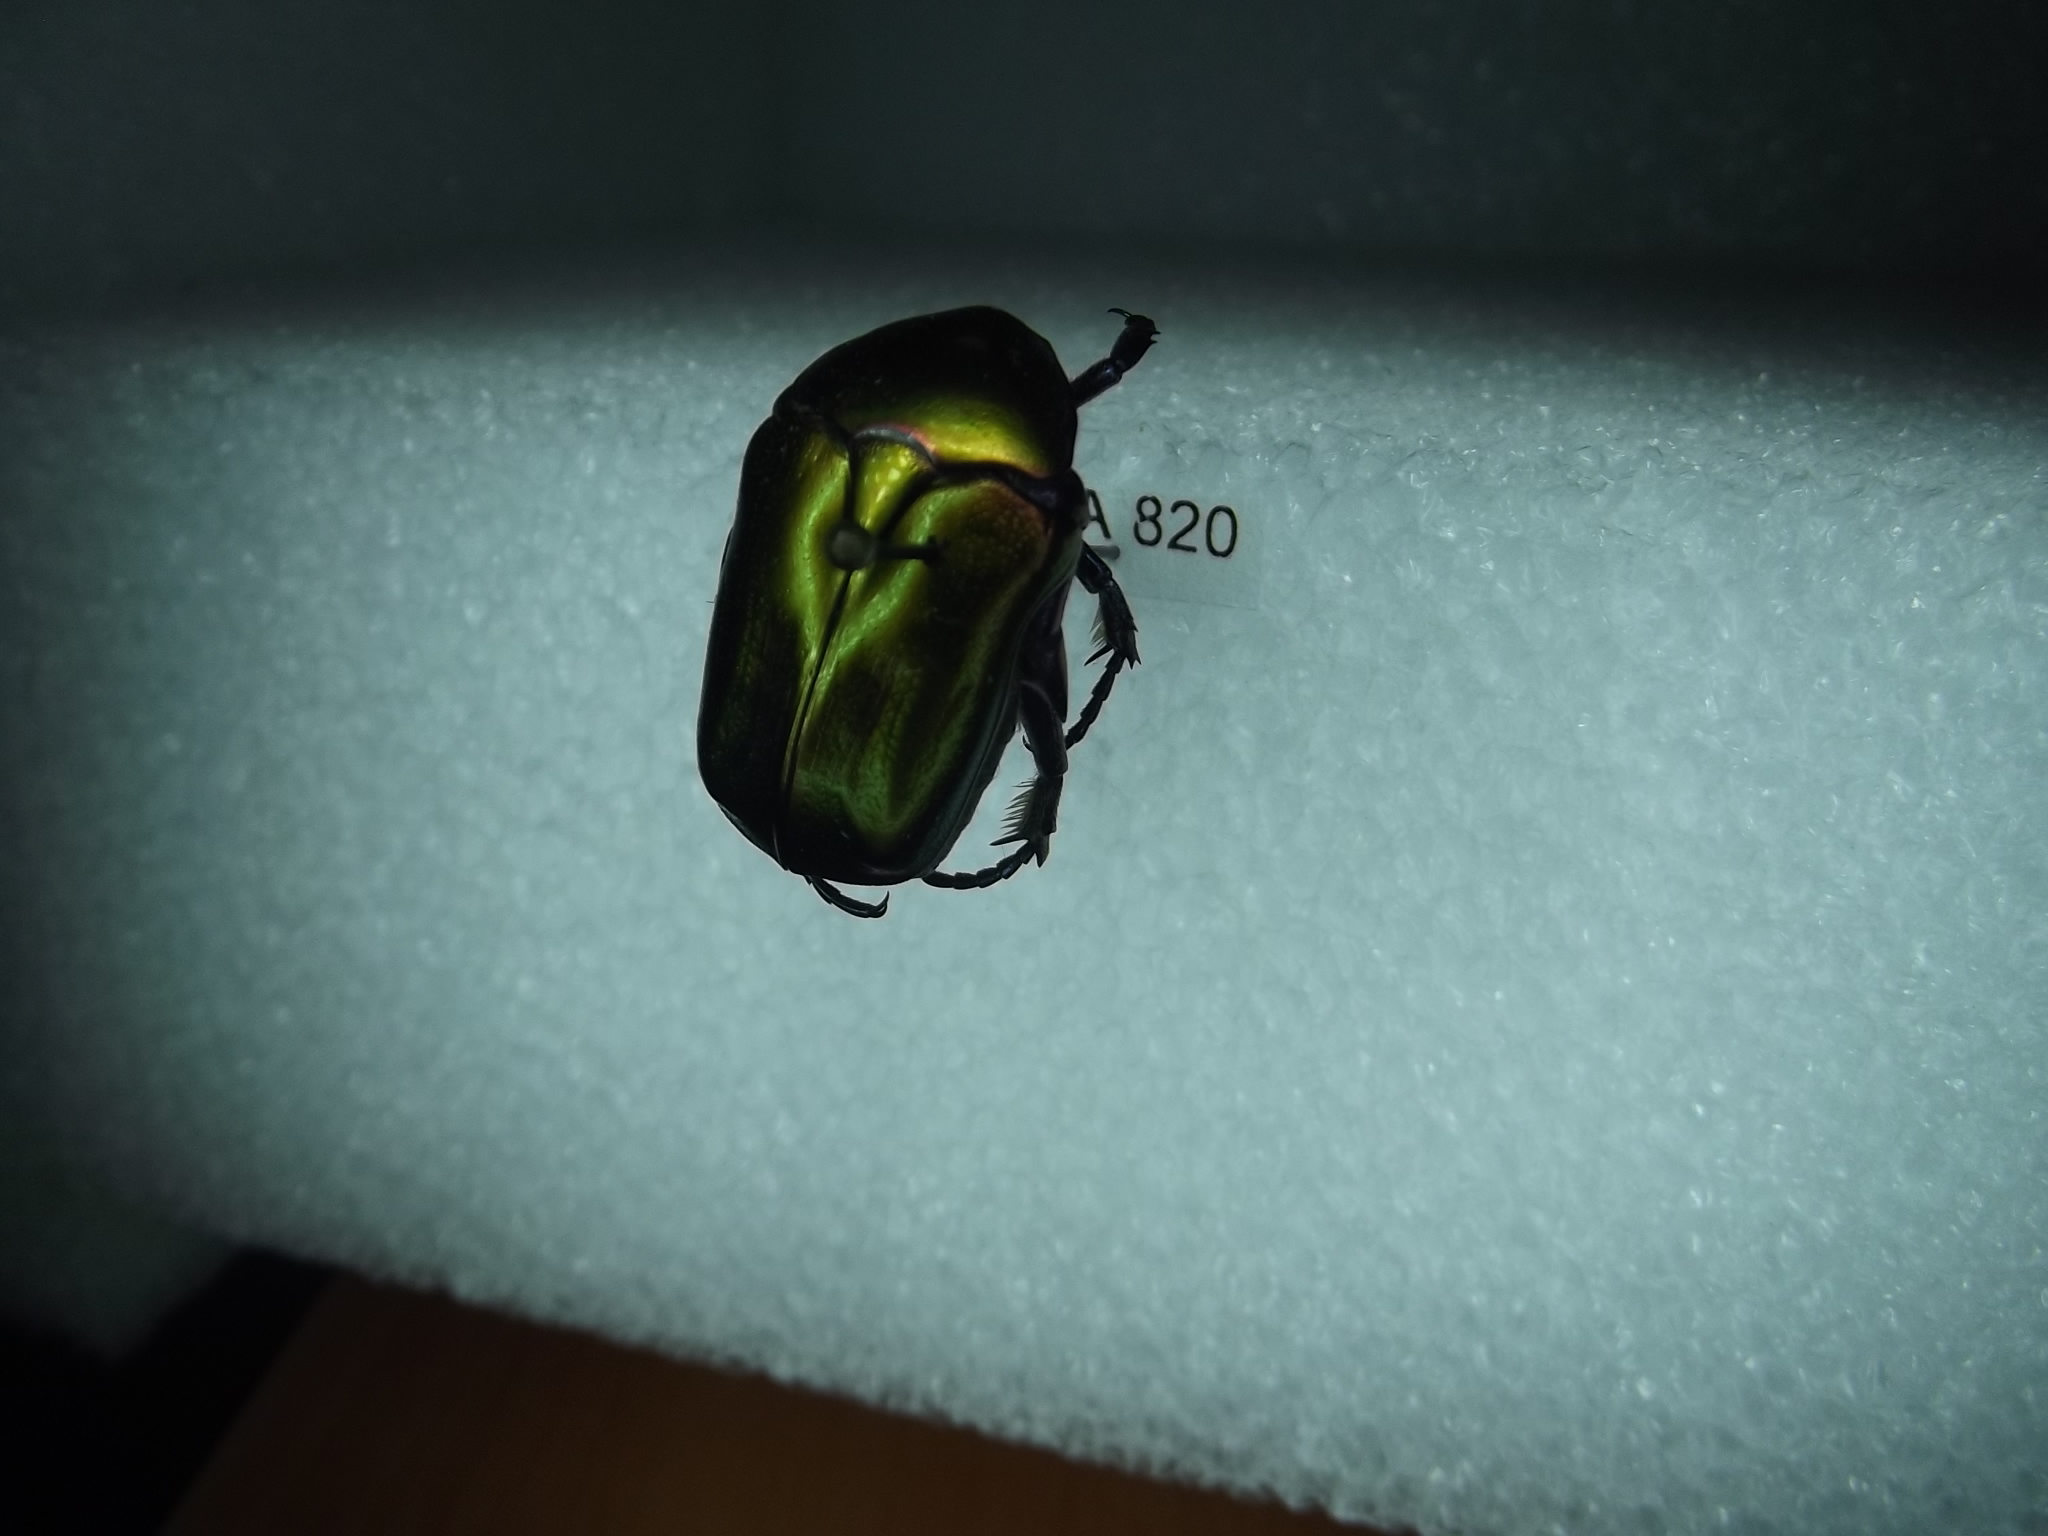Protaetia_cuprea_ignicollis: (677, 274, 1197, 934)
